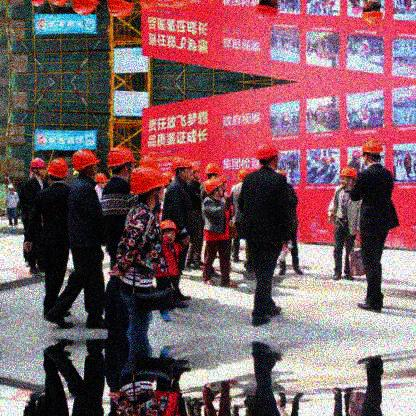helmet: (130, 168, 163, 208), (105, 146, 134, 180), (70, 149, 99, 178), (257, 141, 280, 171), (253, 1, 284, 21), (362, 1, 385, 25), (171, 156, 192, 182), (47, 158, 67, 185), (362, 141, 383, 165), (160, 219, 177, 246), (339, 167, 358, 190), (204, 180, 223, 201), (29, 157, 47, 179), (202, 163, 222, 180), (190, 162, 200, 182), (95, 173, 106, 188), (220, 174, 227, 192), (7, 181, 15, 193)
